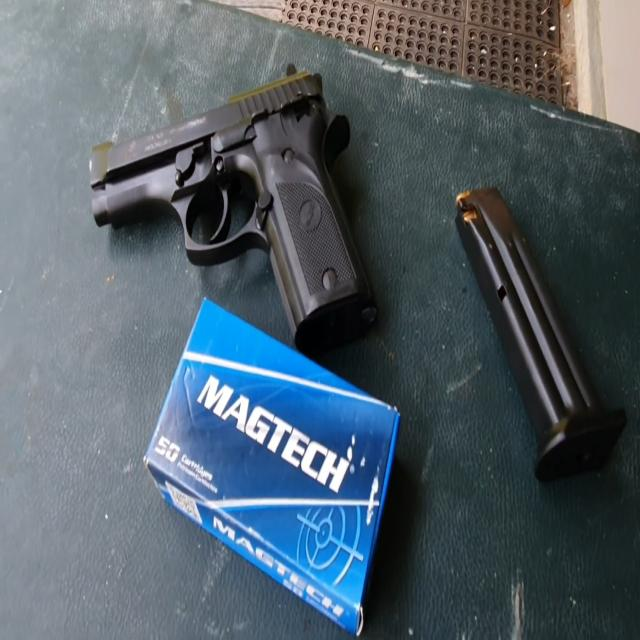handgun: (82, 54, 375, 357)
